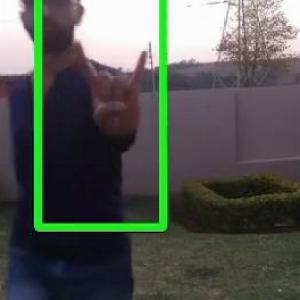takeoff-hand: (70, 33, 158, 137)
